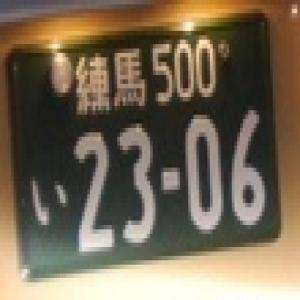Plate: (5, 14, 282, 282)
